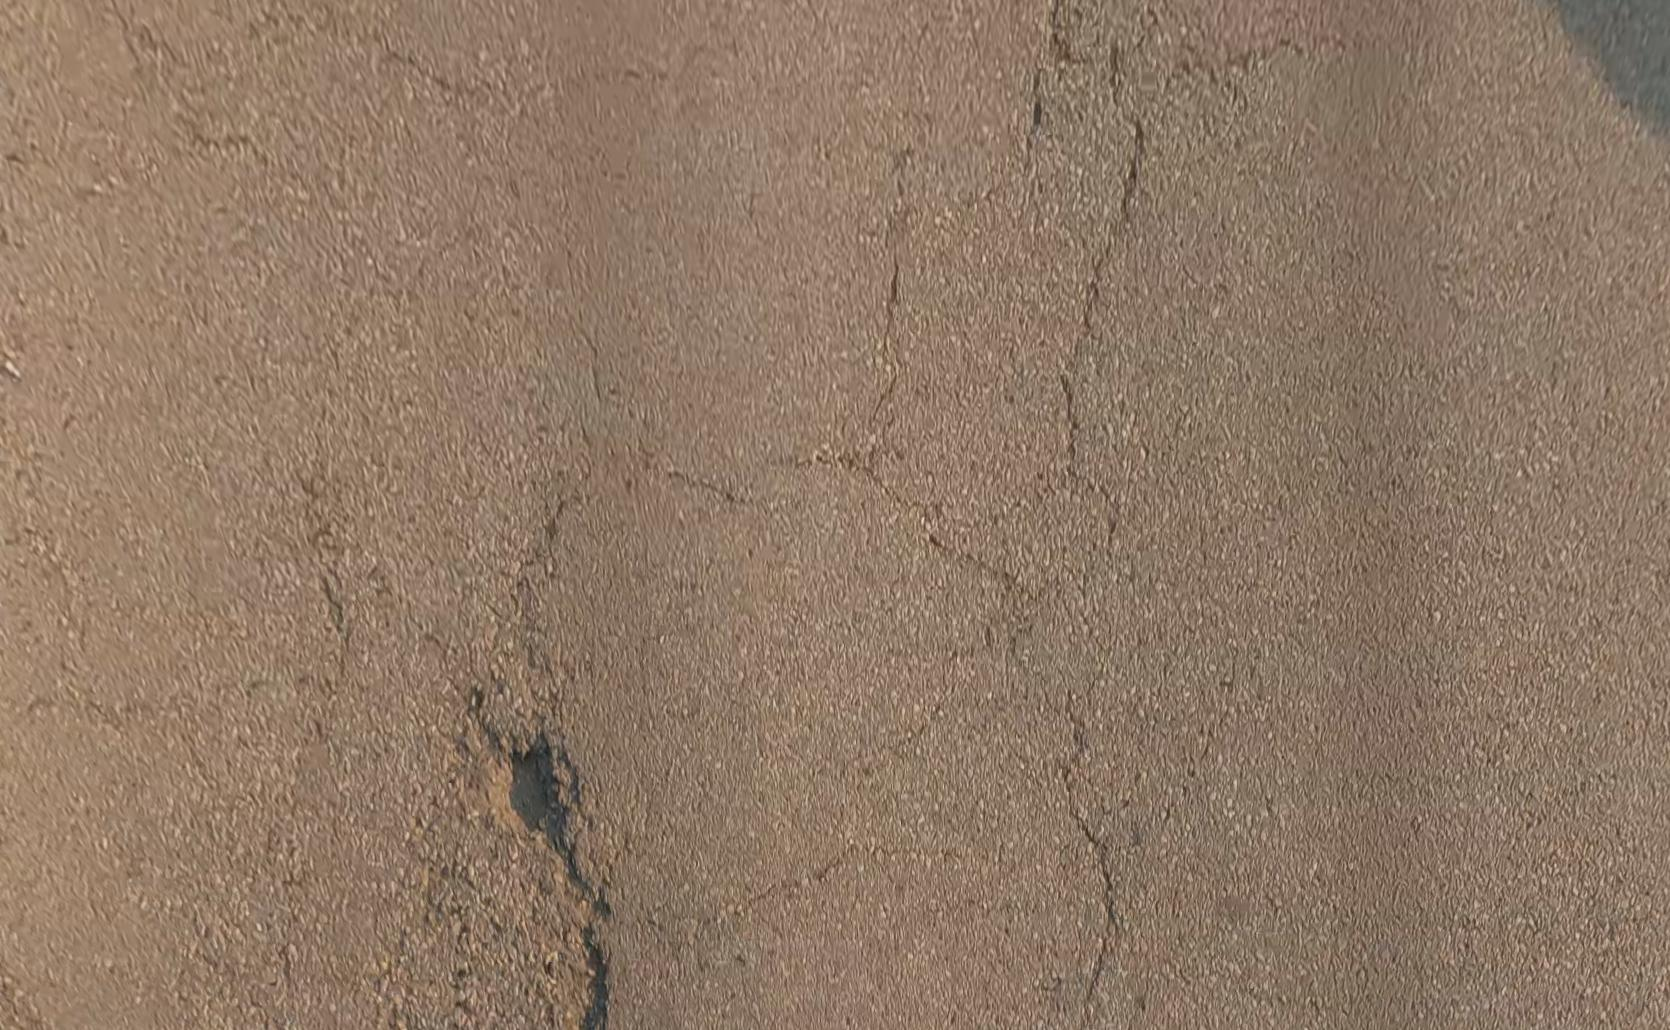pothole: (489, 742, 574, 849), (557, 913, 612, 1028)
